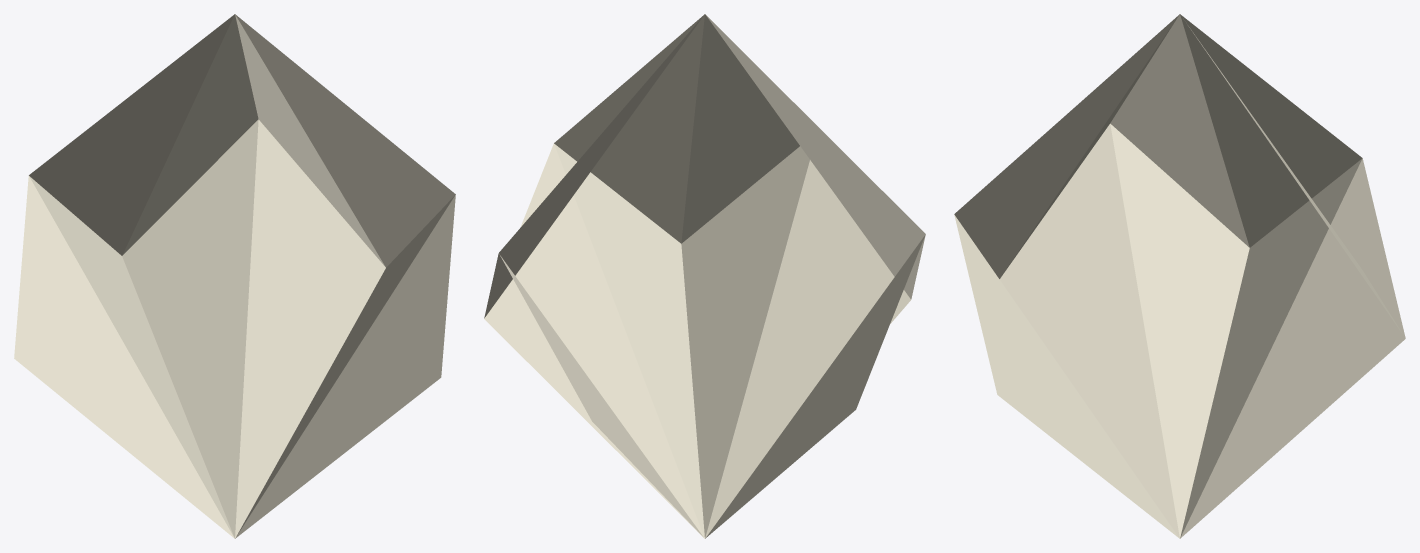
Rendered from d10_units_ivory.gltf.
The picture shows the model from 3 angles, left to right: view 1: azimuth 30°, elevation 25°; view 2: azimuth 150°, elevation 25°; view 3: azimuth 270°, elevation 25°; orthographic projection.
Visible parts, largest first — view 1: D10; view 2: D10; view 3: D10.
Part boxes in pixels (box(x1,y1,x2,y2)): D10: box(14, 14, 455, 538); D10: box(484, 14, 925, 538); D10: box(954, 14, 1405, 538).
Size of the model in its own units: 1.75 by 2.36 by 1.84.
